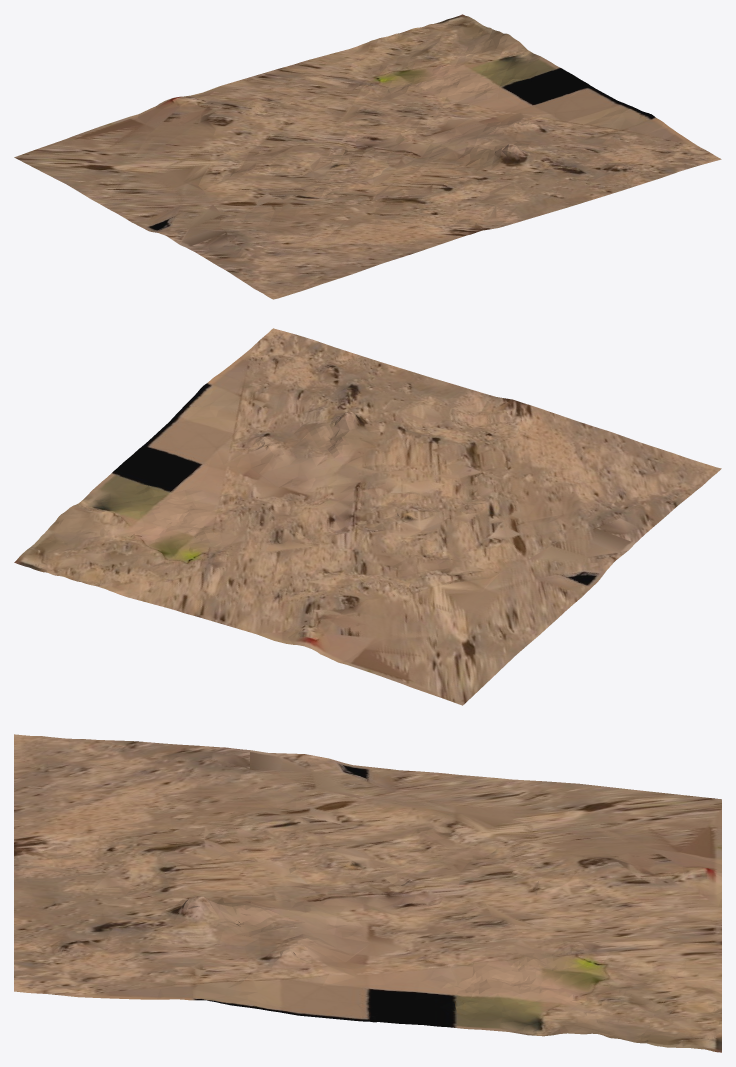
3 views of the same model, one above another, from view 1: azimuth 30°, elevation 25°; view 2: azimuth 150°, elevation 25°; view 3: azimuth 270°, elevation 25° (orthographic). The views are drawn at different scales.
Bounding box in the file's own units: 8.36 × 1.39 × 8.36.
Materials: 2 (2 with a texture image).
